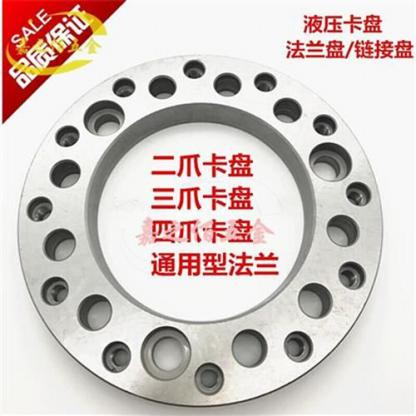FOD: (15, 49, 384, 409)
